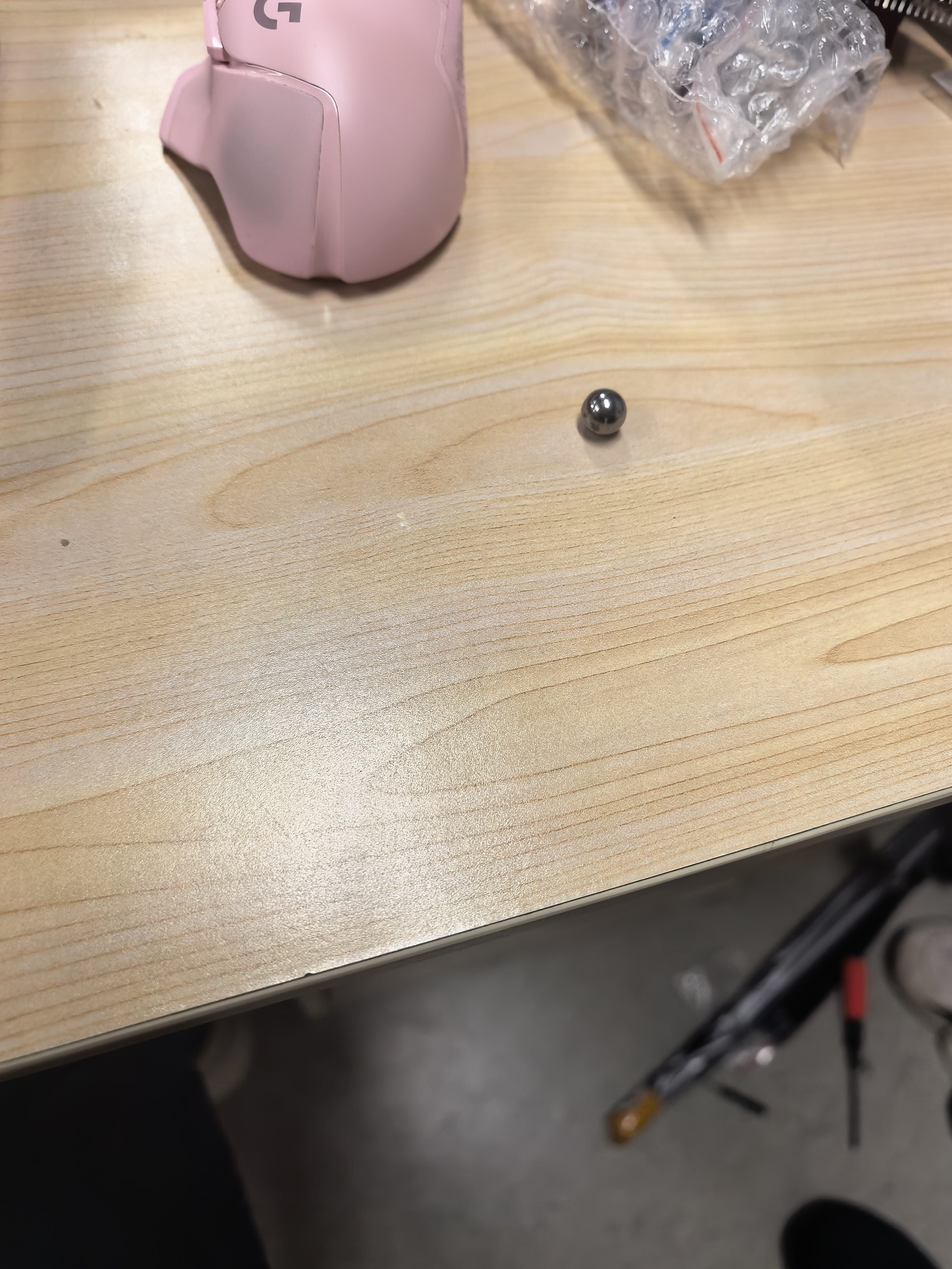ball: (574, 383, 634, 445)
